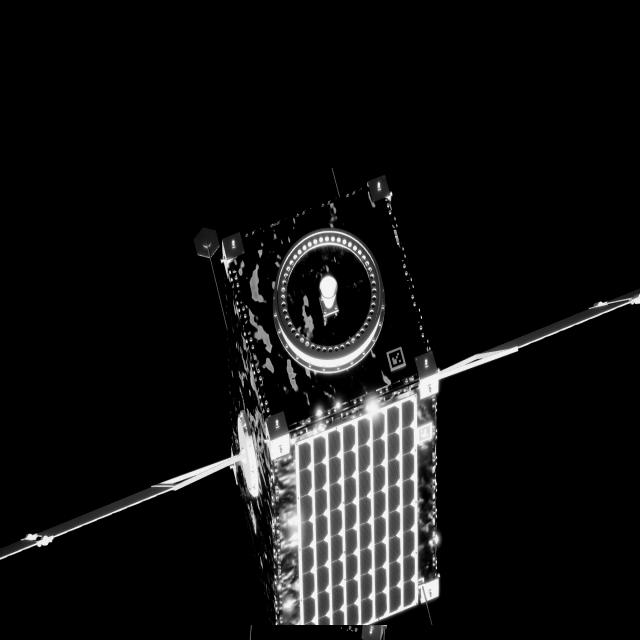medium_debris: (0, 169, 640, 640)
